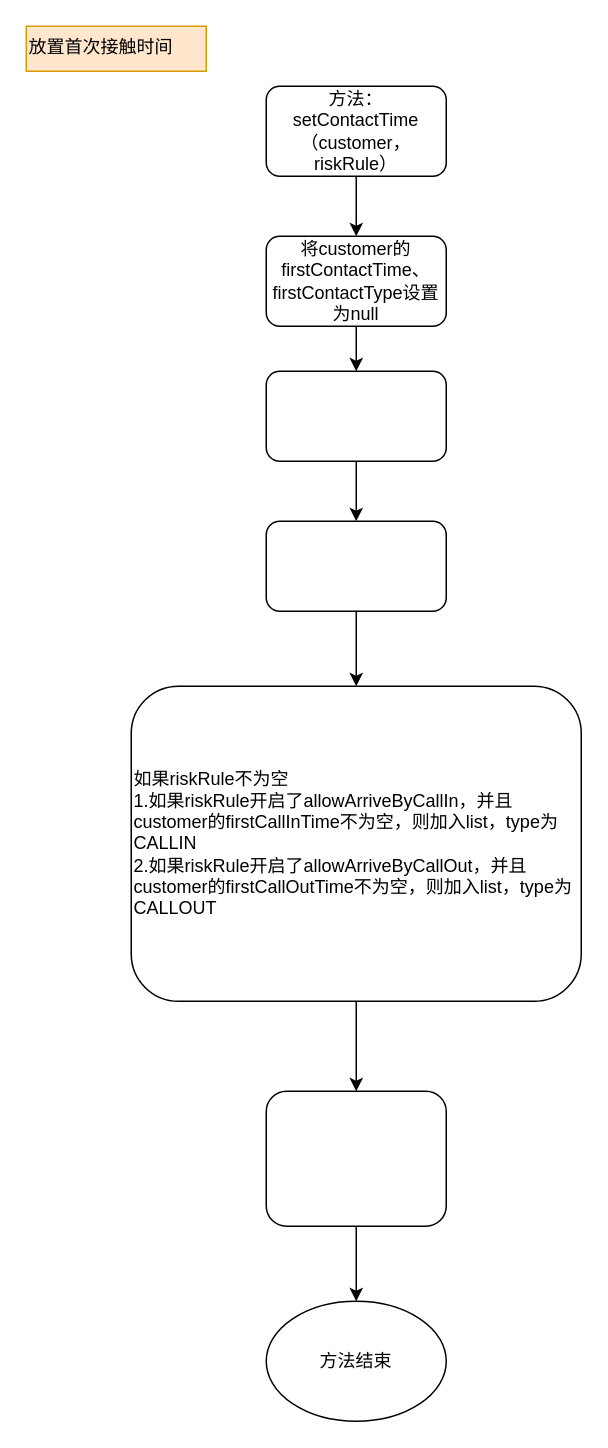
Some shapes in this 608 by 1448 pixel diagram are drawn without their labels. Here are the shapes that lost their labels. From the top down, the centre of each, then its label:
At [355,415]: "创建一个list".
At [355,565]: "如果customer的首次抓拍时间不为空，加入list，type为PHOTO".
At [355,1158]: "如果list不为空，得到最小的时间，并设置到customer的 firstContactTime、firstContactType".
